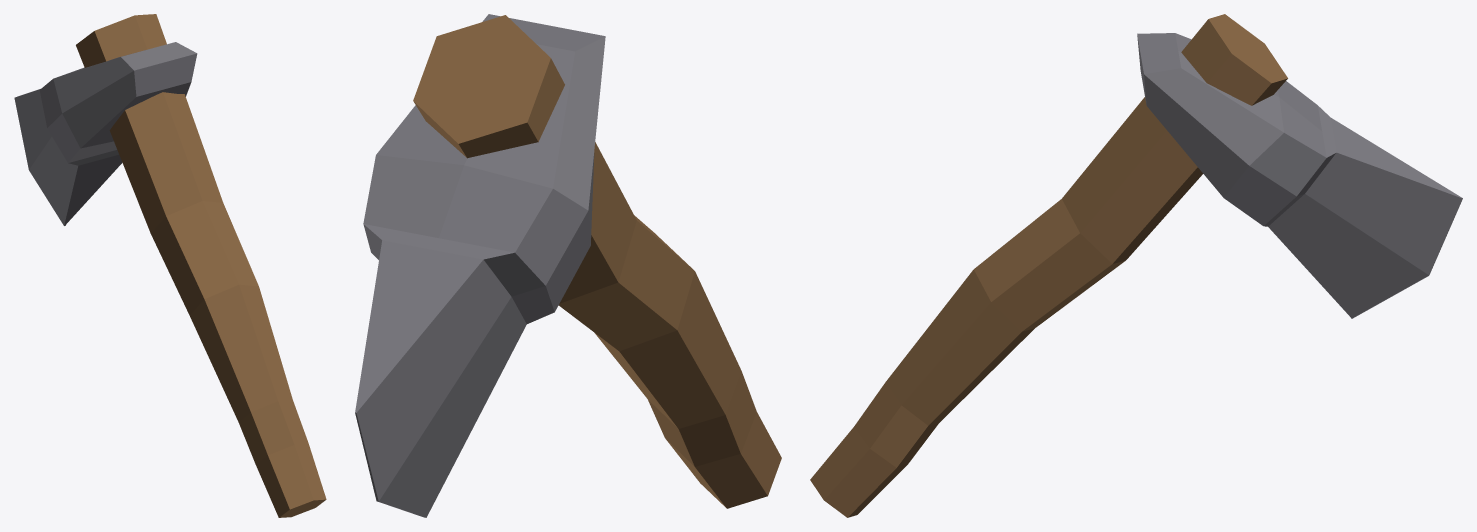
File: axe.fbx
3 views of the same model, side by side, from view 1: azimuth 30°, elevation 25°; view 2: azimuth 150°, elevation 25°; view 3: azimuth 270°, elevation 25° (orthographic). The views are drawn at different scales.
Parts seen in each view (by area): view 1: Circle; view 2: Circle; view 3: Circle.
Boxes of the visible parts, <box> form: Circle: <box>14,14,326,517</box>; Circle: <box>355,14,781,517</box>; Circle: <box>810,14,1462,517</box>.
Bounding box in the file's own units: 50.77 × 168 × 204.
